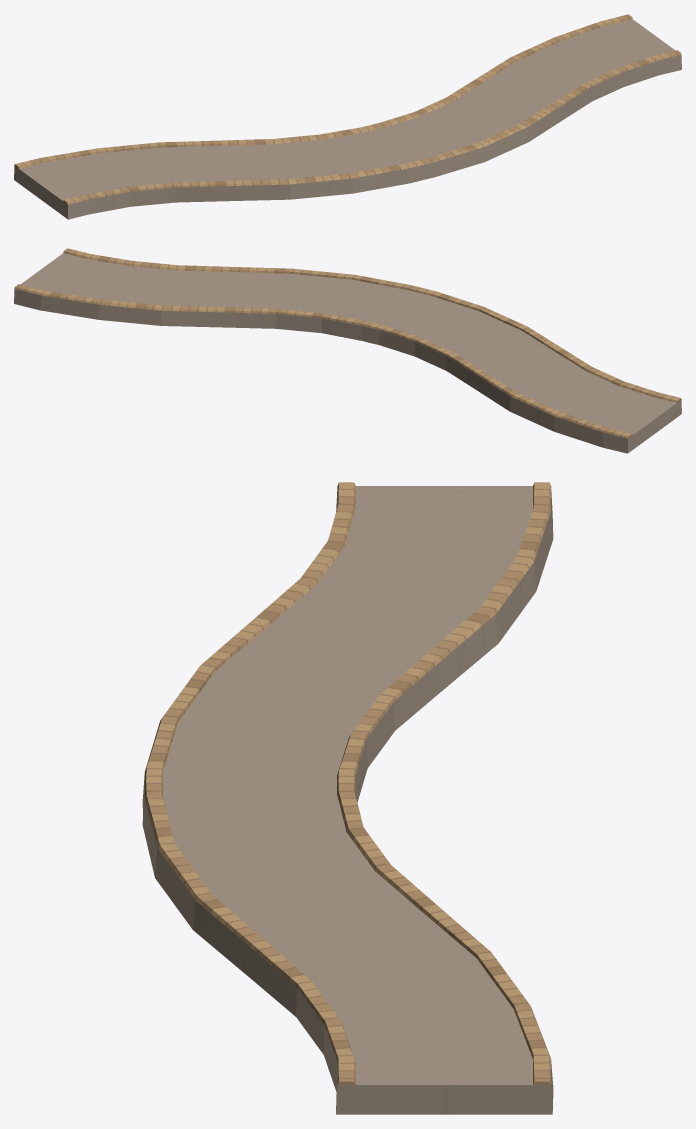
File: SM_Env_Path_Curve_01.obj
The picture shows the model from 3 angles, top to bottom: view 1: azimuth 30°, elevation 25°; view 2: azimuth 150°, elevation 25°; view 3: azimuth 270°, elevation 25°; orthographic projection. The views are drawn at different scales.
Visible parts, largest first — view 1: SM_Env_Path_Curve_01_0, SM_Env_Path_Curve_01_1; view 2: SM_Env_Path_Curve_01_0, SM_Env_Path_Curve_01_1; view 3: SM_Env_Path_Curve_01_0, SM_Env_Path_Curve_01_1.
Part boxes in pixels (x1=…): SM_Env_Path_Curve_01_0: x1=14, y1=19, x2=681, y2=219; SM_Env_Path_Curve_01_1: x1=14, y1=14, x2=681, y2=204; SM_Env_Path_Curve_01_0: x1=14, y1=253, x2=681, y2=453; SM_Env_Path_Curve_01_1: x1=14, y1=248, x2=681, y2=438; SM_Env_Path_Curve_01_0: x1=142, y1=486, x2=553, y2=1114; SM_Env_Path_Curve_01_1: x1=144, y1=482, x2=551, y2=1084.
Size of the model in its own units: 20 by 0.5131 by 5.8.
2 materials, 2 textured.
